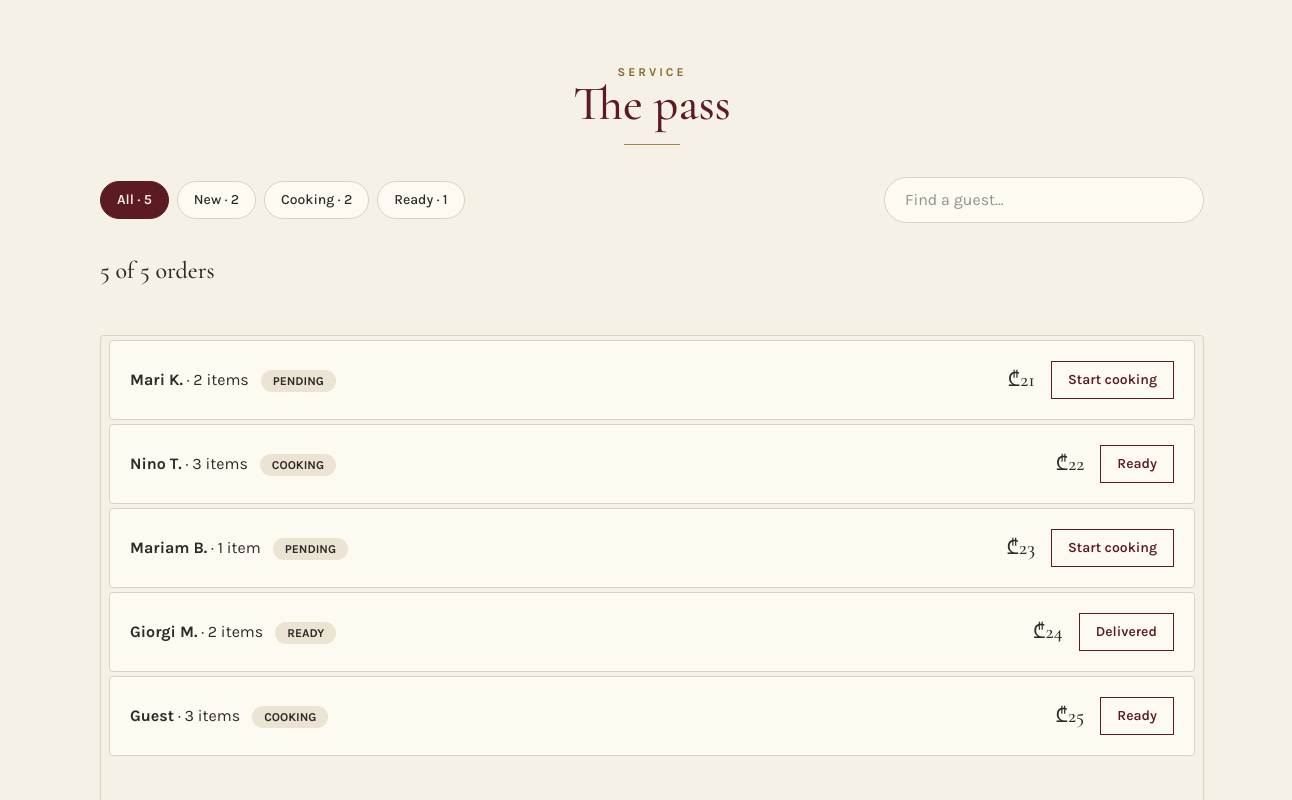
Scenario: KitchenPage › says so when nobody matches
Expected: the text "5 of 5 orders" is shown, [100, 256, 215, 285]
In the search field labelled "Find a guest": (1044, 200) [884, 177, 1204, 223], type "zzz"
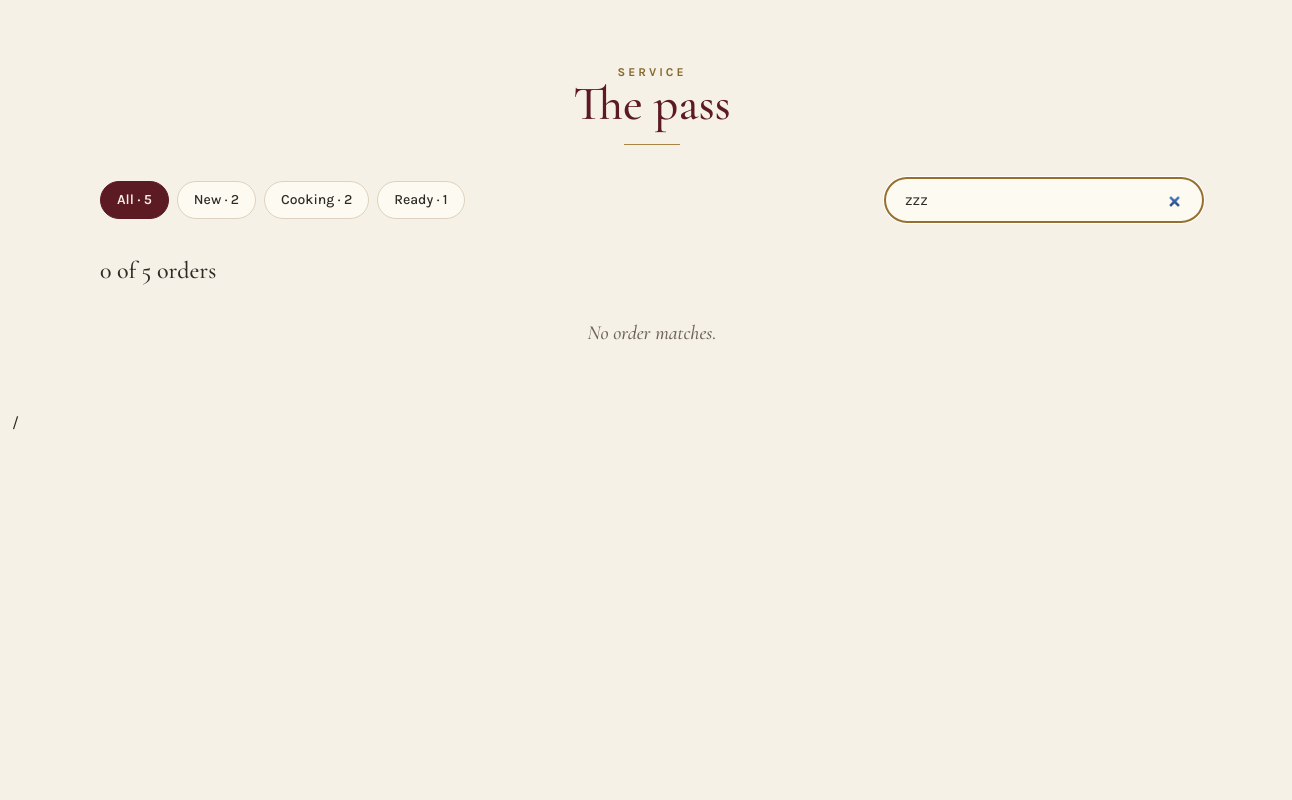
Now the text "No order matches." is shown, box [588, 321, 716, 345]
